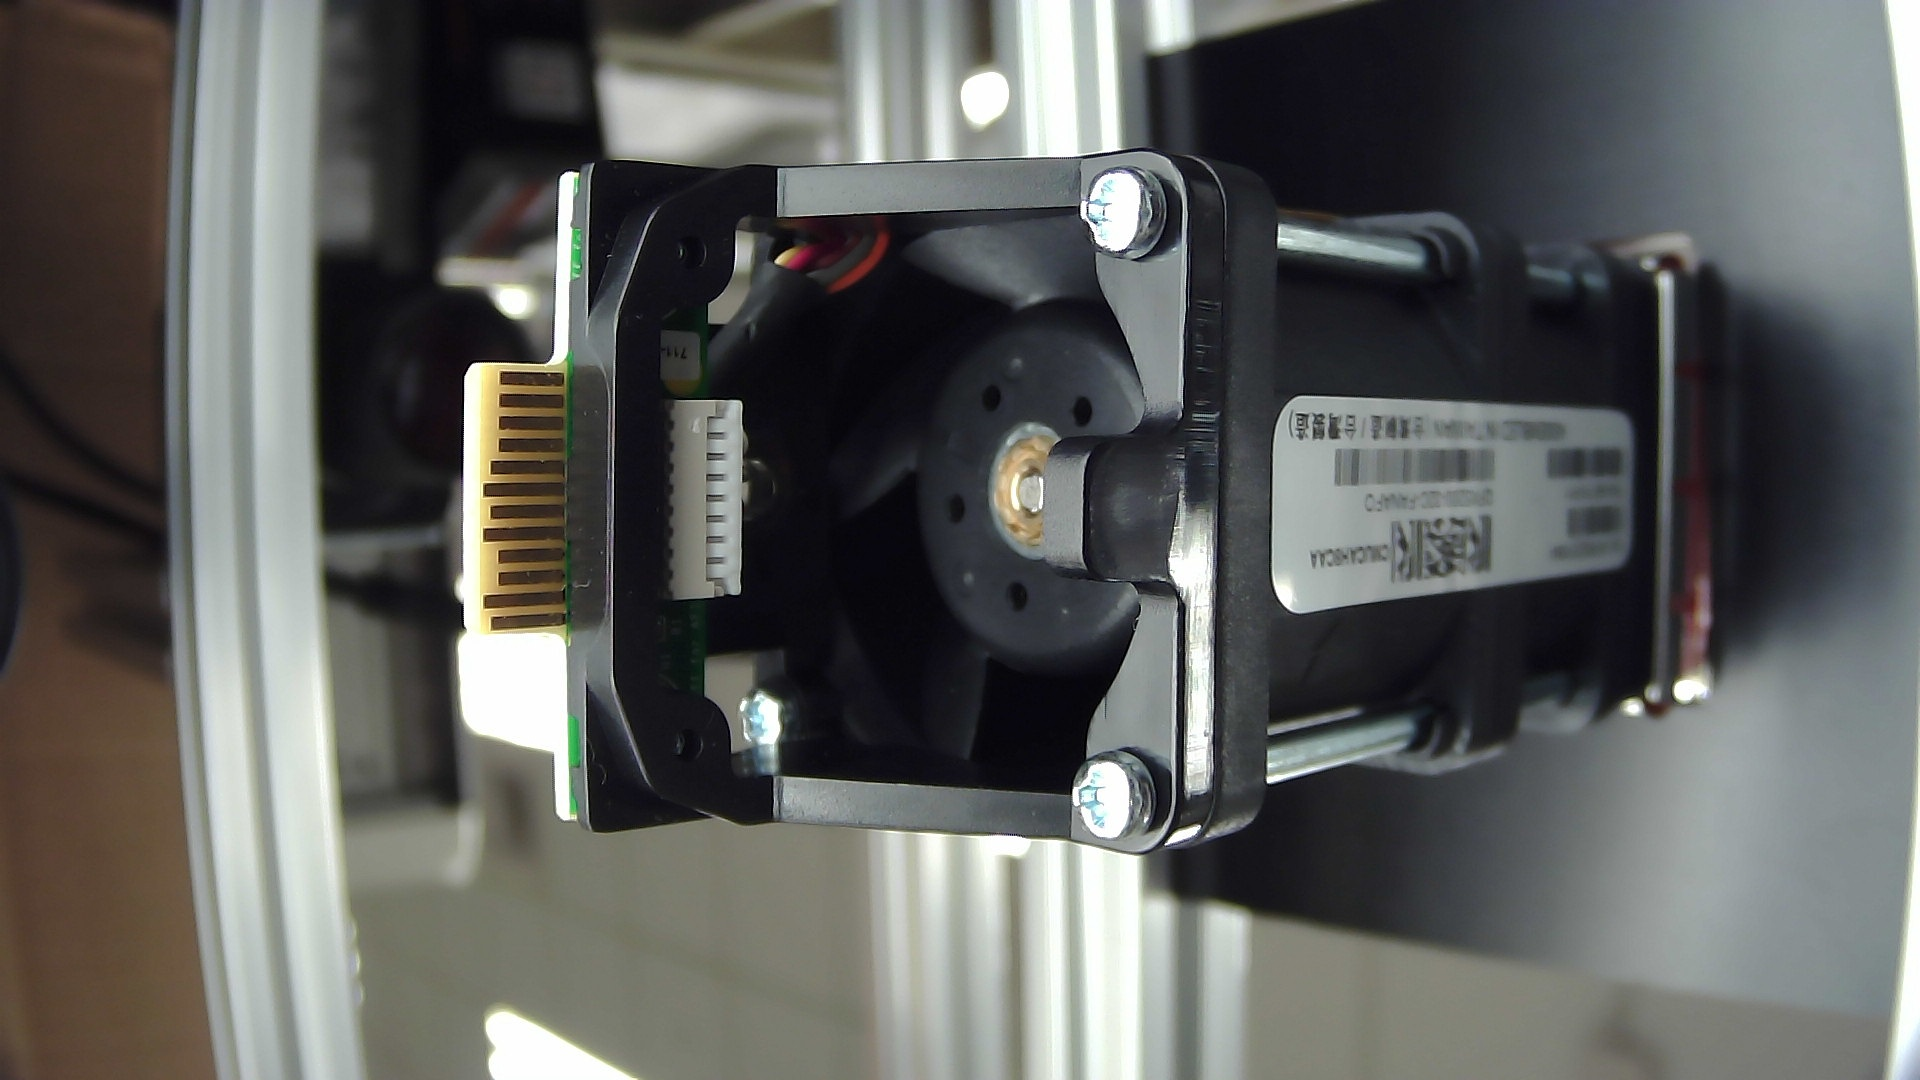4_0: (400, 105, 1784, 895)
